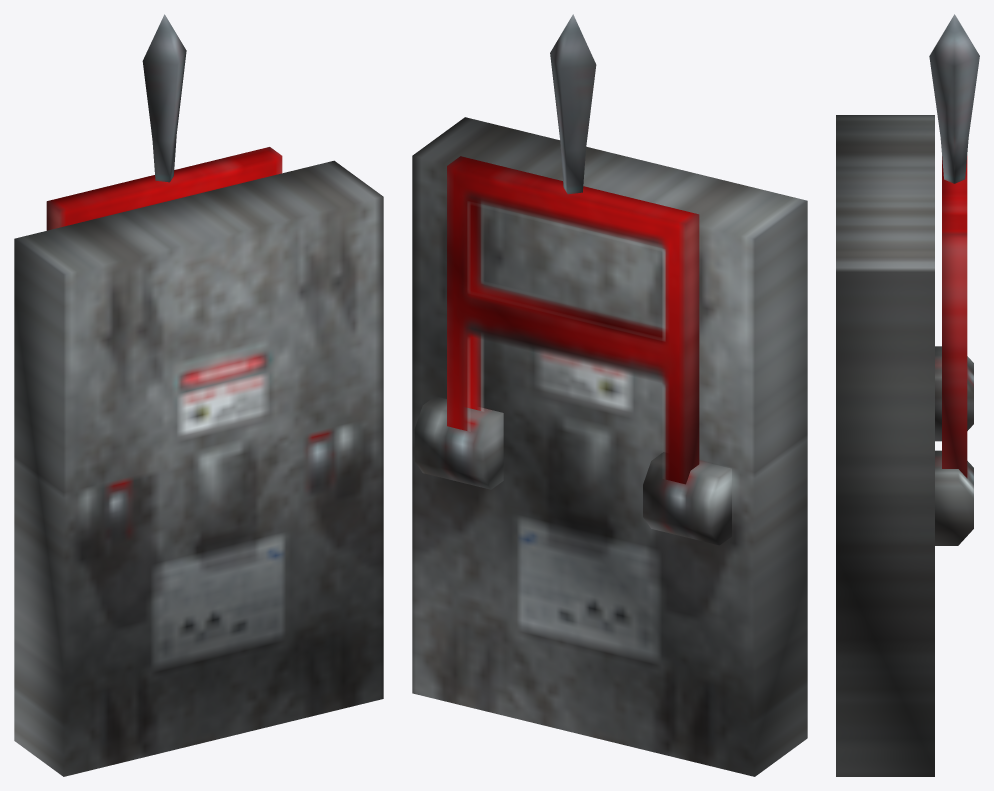
The model's file is LEver.glb.
The picture shows the model from 3 angles, left to right: view 1: azimuth 30°, elevation 25°; view 2: azimuth 150°, elevation 25°; view 3: azimuth 270°, elevation 25°; orthographic projection. The views are drawn at different scales.
Parts seen in each view (by area): view 1: LeverBody, LeverHandle; view 2: LeverBody, LeverHandle; view 3: LeverBody, LeverHandle.
Boxes of the visible parts, box(x1,y1,x2,y2) form: LeverBody: box(14, 160, 383, 776); LeverHandle: box(46, 14, 282, 230); LeverBody: box(412, 117, 807, 776); LeverHandle: box(447, 14, 699, 484); LeverBody: box(836, 115, 973, 776); LeverHandle: box(929, 14, 979, 478).
Size of the model in its own units: 2.4 by 4.88 by 0.93.
Materials: 1 (1 with a texture image).
